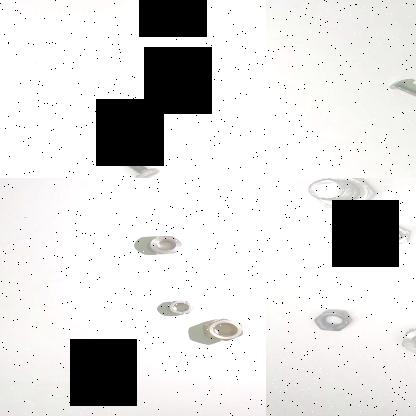Bolts: (286, 178, 376, 213), (365, 222, 412, 250), (114, 152, 160, 178), (385, 78, 416, 105)
NUTS: (299, 306, 363, 336), (201, 316, 249, 342), (144, 234, 188, 257), (390, 321, 416, 359), (157, 296, 196, 316)
